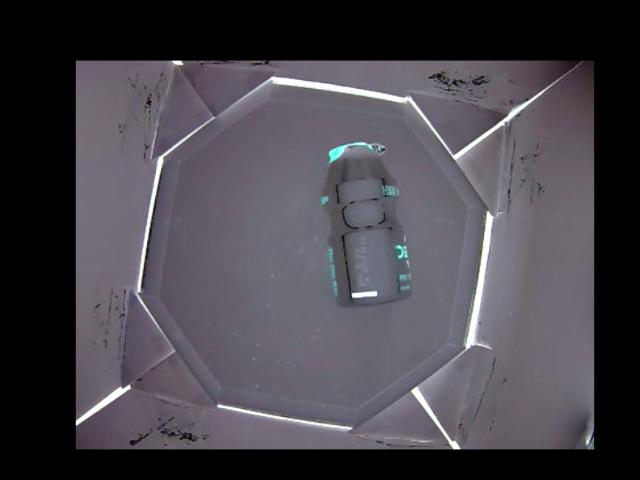Bottle: (321, 142, 411, 308)
